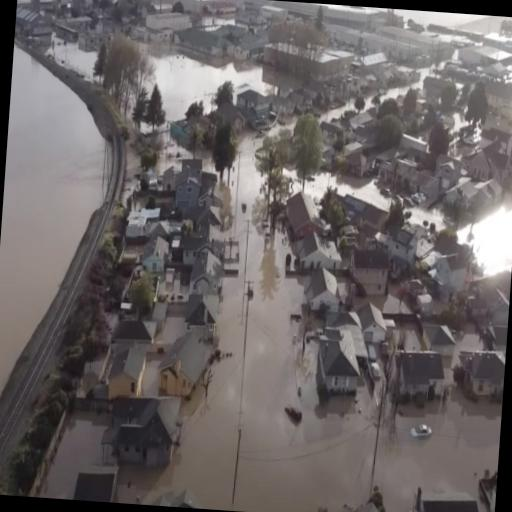flood: (117, 135, 261, 511), (235, 225, 377, 512), (0, 43, 105, 392), (374, 388, 502, 512), (154, 52, 261, 115), (40, 412, 105, 500), (458, 190, 512, 273), (48, 36, 96, 79), (336, 173, 390, 210), (308, 99, 355, 121), (157, 141, 188, 172), (305, 171, 332, 200), (413, 204, 445, 228), (273, 113, 299, 129), (201, 150, 213, 170), (366, 96, 372, 107)
house: (98, 386, 182, 480), (312, 320, 368, 402), (155, 324, 217, 398), (387, 342, 448, 405), (454, 344, 506, 407), (104, 341, 149, 402), (346, 245, 390, 301), (284, 188, 326, 243), (468, 140, 510, 190), (70, 460, 118, 502), (303, 266, 343, 316), (471, 264, 512, 312), (419, 484, 485, 512), (145, 8, 190, 44), (434, 250, 471, 292), (184, 289, 220, 330), (189, 251, 224, 293), (173, 164, 203, 212), (234, 86, 269, 123), (444, 174, 478, 212), (359, 302, 387, 346), (298, 240, 339, 270), (421, 322, 456, 356), (112, 316, 156, 343), (142, 234, 170, 272), (392, 226, 422, 260), (362, 200, 388, 230), (194, 32, 224, 56), (434, 153, 460, 179), (199, 184, 222, 208), (293, 89, 313, 115), (410, 174, 438, 192), (270, 96, 292, 118), (505, 114, 512, 161), (234, 42, 252, 58)
